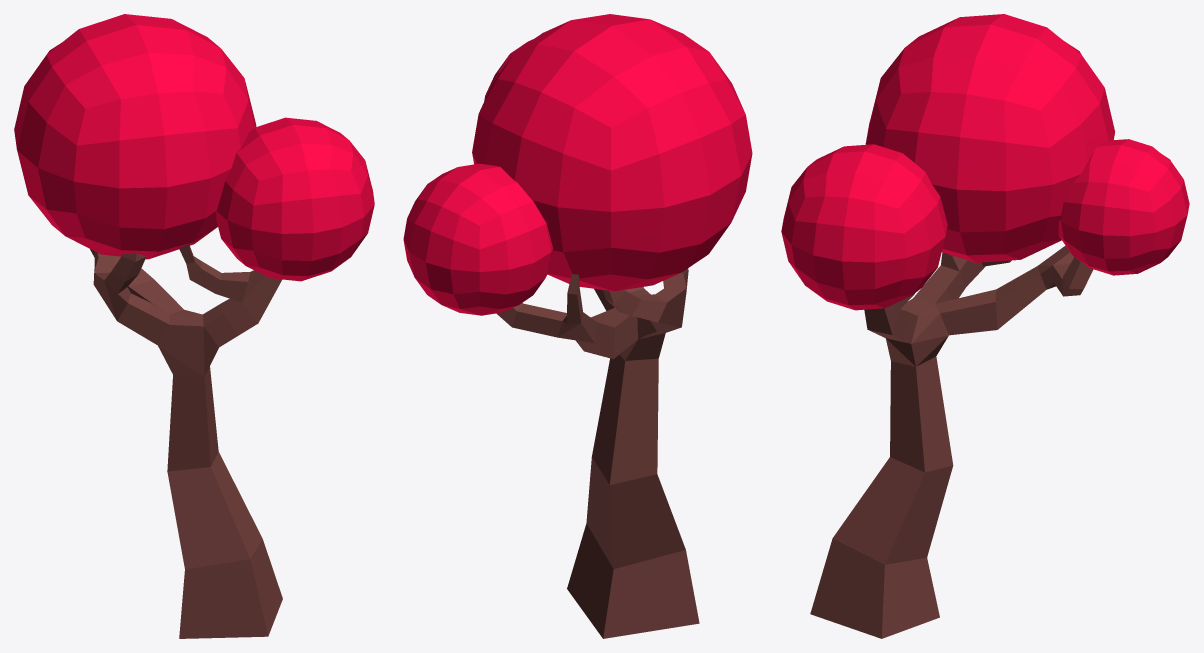
File: TreePackage.fbx_Tree_011.fbx
3 views of the same model, side by side, from view 1: azimuth 30°, elevation 25°; view 2: azimuth 150°, elevation 25°; view 3: azimuth 270°, elevation 25° (orthographic). The views are drawn at different scales.
Visible parts, largest first — view 1: Cube.002, Plane.004; view 2: Cube.002, Plane.004; view 3: Cube.002, Plane.004.
Boxes of the visible parts, x1,y1,x2,y2 form: Cube.002: (14, 14, 374, 281); Plane.004: (90, 244, 282, 638); Cube.002: (403, 14, 752, 315); Plane.004: (496, 268, 699, 638); Cube.002: (781, 14, 1189, 310); Plane.004: (810, 245, 1093, 638).
Size of the model in its own units: 284 by 565 by 363.
